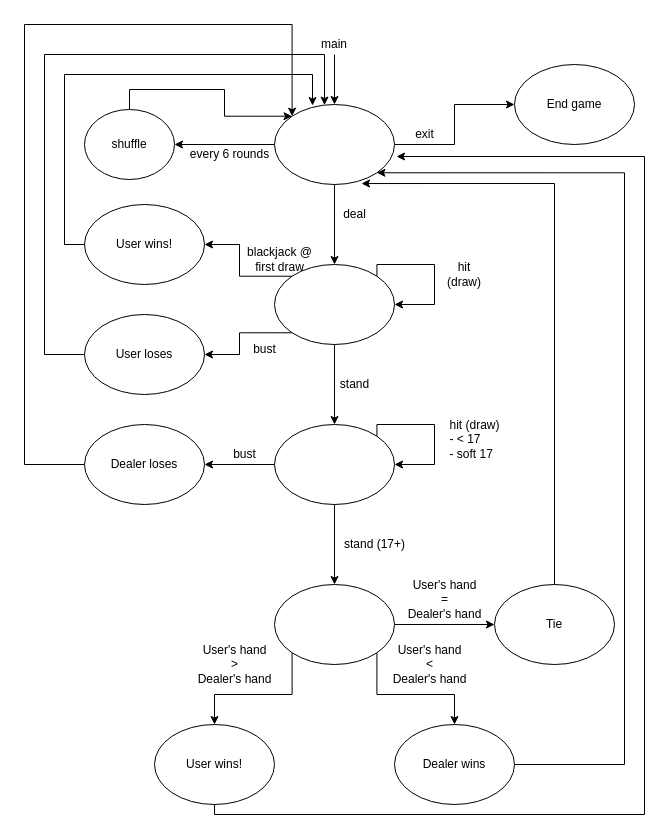
Some shapes in this 670 by 840 pixel diagram are drawn without their labels. The shapes that lost their labels are listed below. From the top down, each one's box as (x1, y1, x2, y2) in pixels, then its label:
(274, 104, 394, 184): pending
(274, 264, 394, 344): User's turn
(274, 424, 394, 504): Dealer's turn
(274, 584, 394, 664): compare
